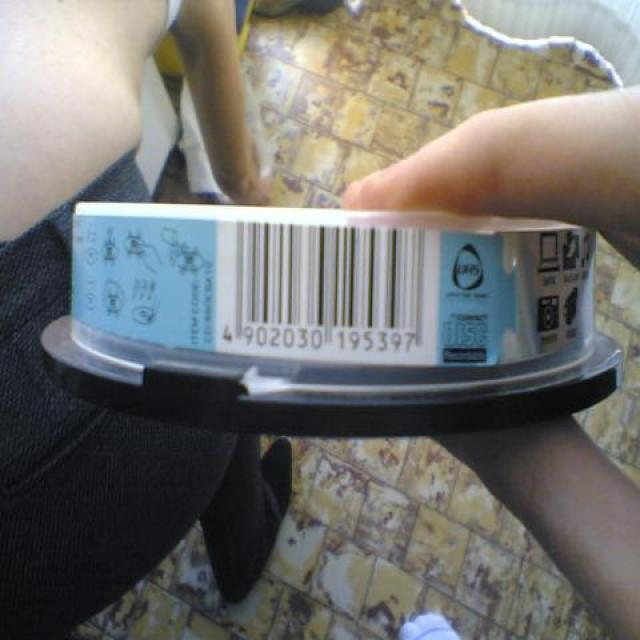Barcode: (217, 213, 440, 369)
